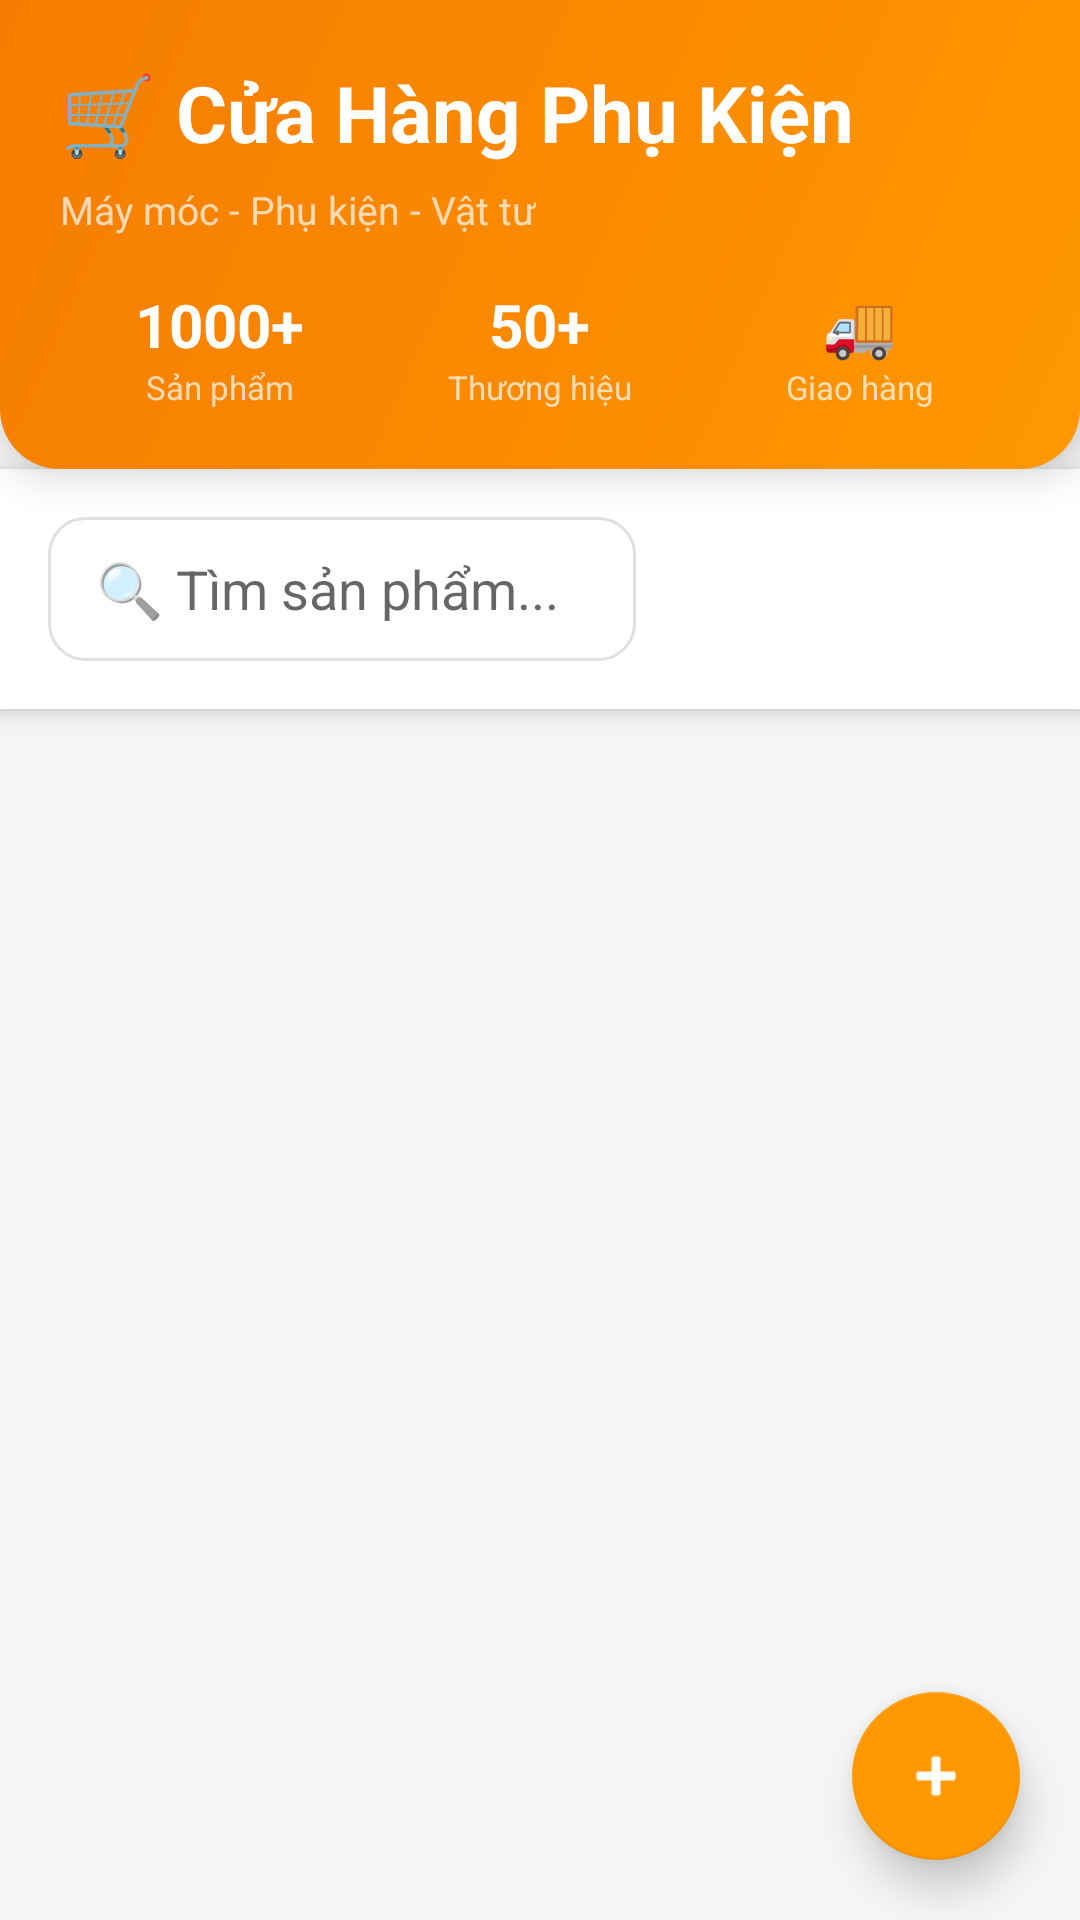

Icons on this 1080px x 1920px Android screen, each with its box as box=[x1, y1, x2, y2]:
Thêm sản phẩm: box=[852, 1692, 1020, 1860]
